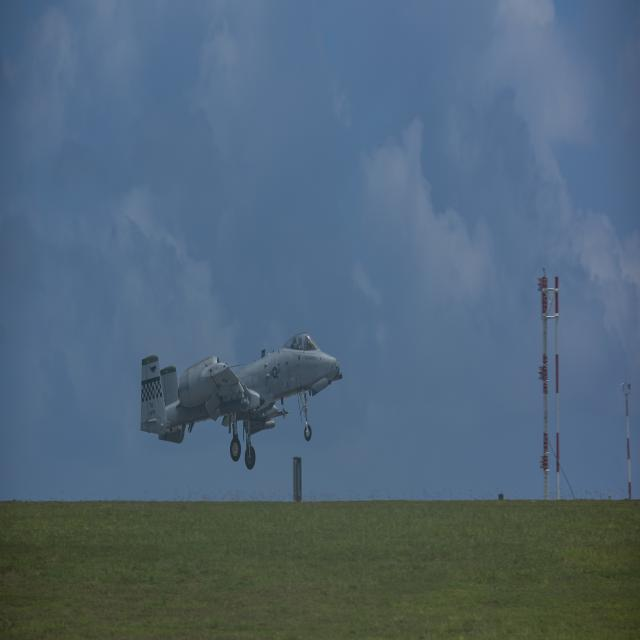MIL_Plane: (140, 332, 342, 470)
